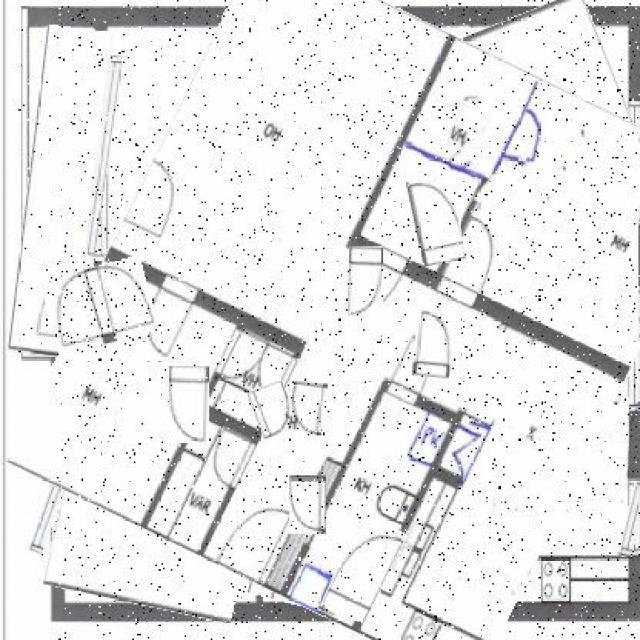door: (57, 0, 640, 640), (401, 6, 640, 258), (54, 371, 266, 615), (19, 26, 103, 357), (395, 376, 514, 604), (322, 20, 424, 149), (321, 142, 417, 250), (256, 476, 326, 604), (256, 378, 326, 468)
window: (46, 262, 154, 349), (332, 517, 397, 621), (411, 176, 463, 264), (169, 366, 209, 443), (414, 307, 454, 378), (349, 246, 383, 319), (252, 381, 296, 437), (289, 475, 326, 534), (289, 381, 326, 434)
zone: (88, 55, 115, 258), (38, 431, 74, 555), (617, 284, 640, 404), (620, 102, 640, 223), (621, 478, 640, 556)
